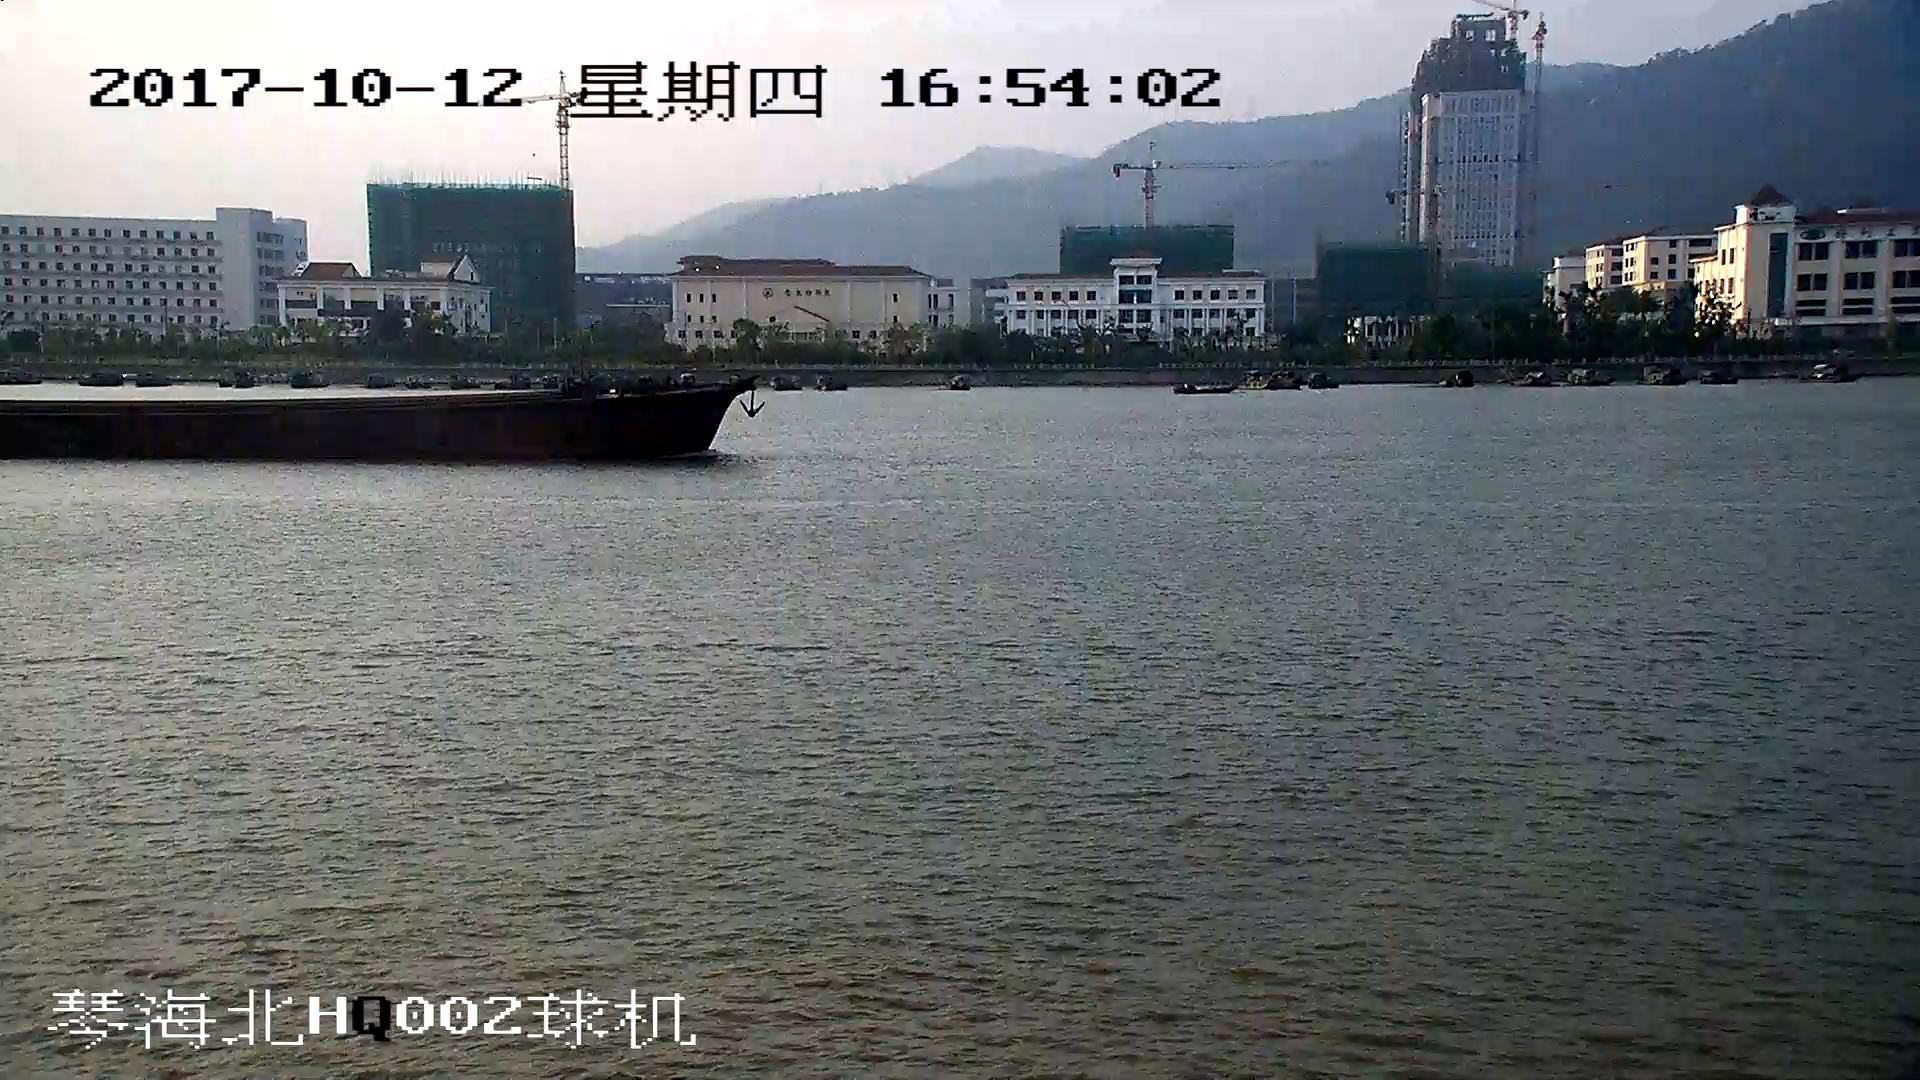bulk cargo carrier: (1, 370, 757, 462)
